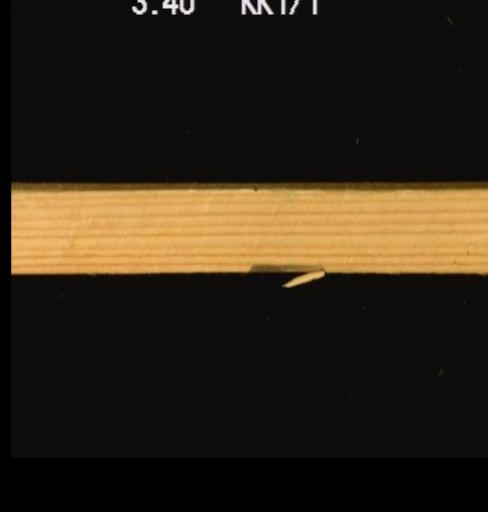wave: (245, 255, 329, 270)
